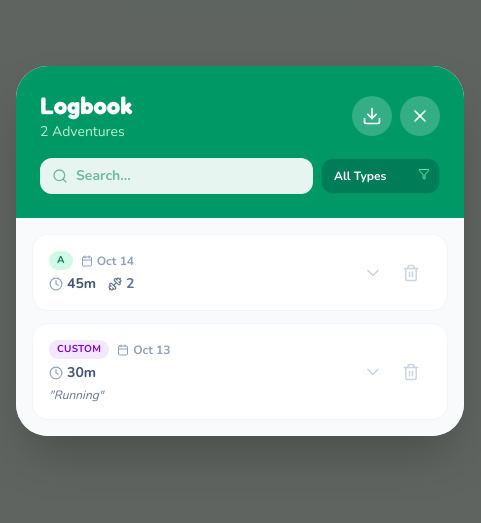
Test: HistoryModal Detailed View › shows no details message for logs without exercises
What coordinates should you click on to do the following:
click the element with test id "log-item-log2"
I would click on:
 (240, 372)
Its box is [32,323,448,420].
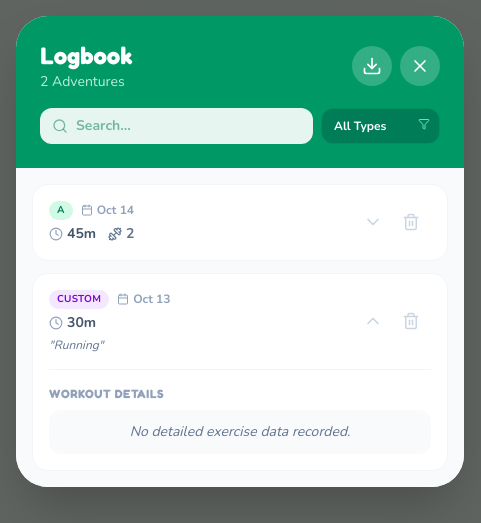
expect the element with test id "log-details-log2" is shown: met, box [49,368,431,454]
expect the text "No detailed exercise data recorded." is shown: met, box [49,410,431,454]
